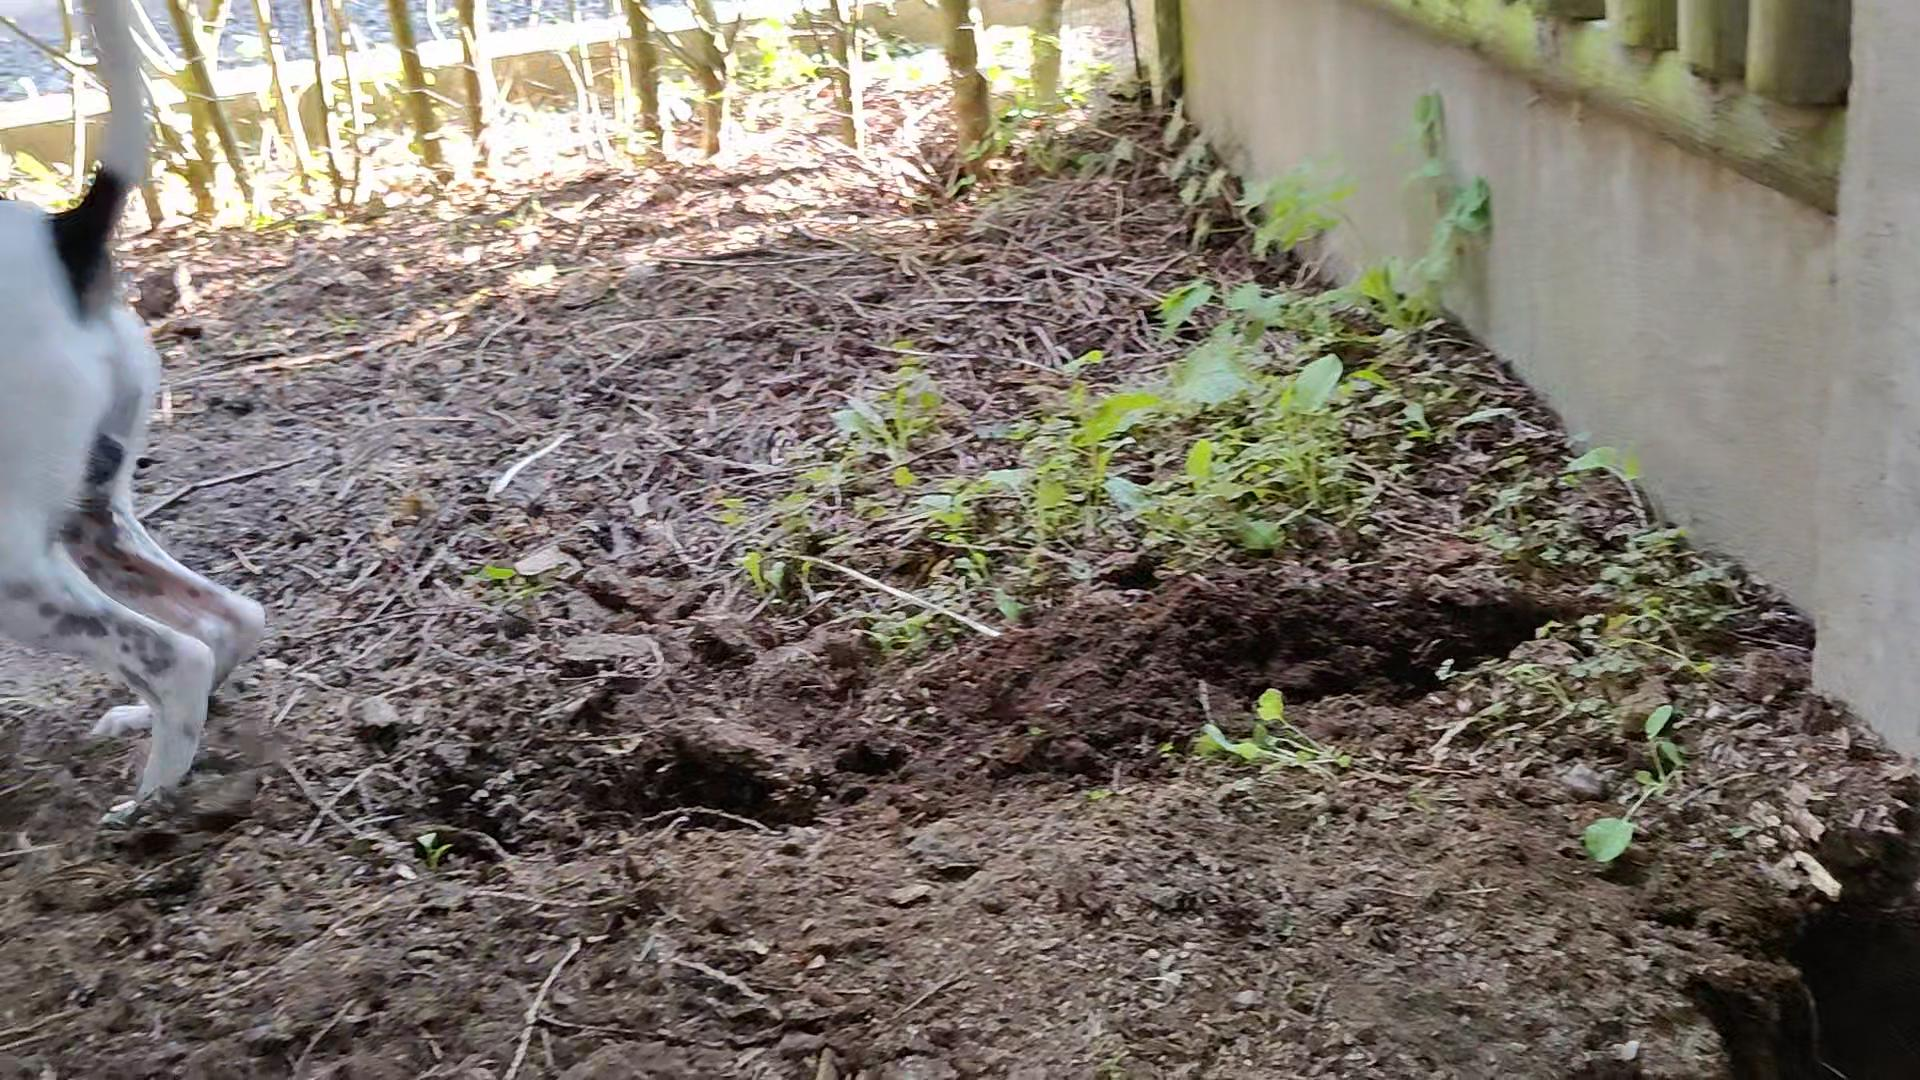Dog: (0, 0, 295, 831)
